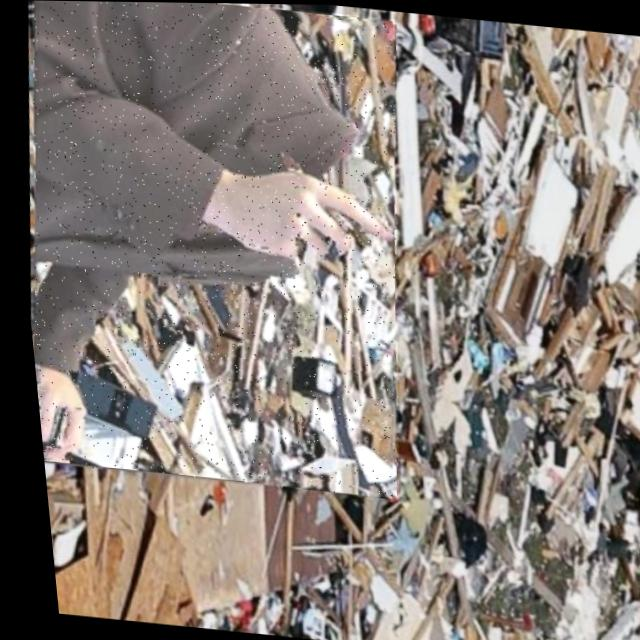Person in Rubble: (0, 0, 429, 498)
